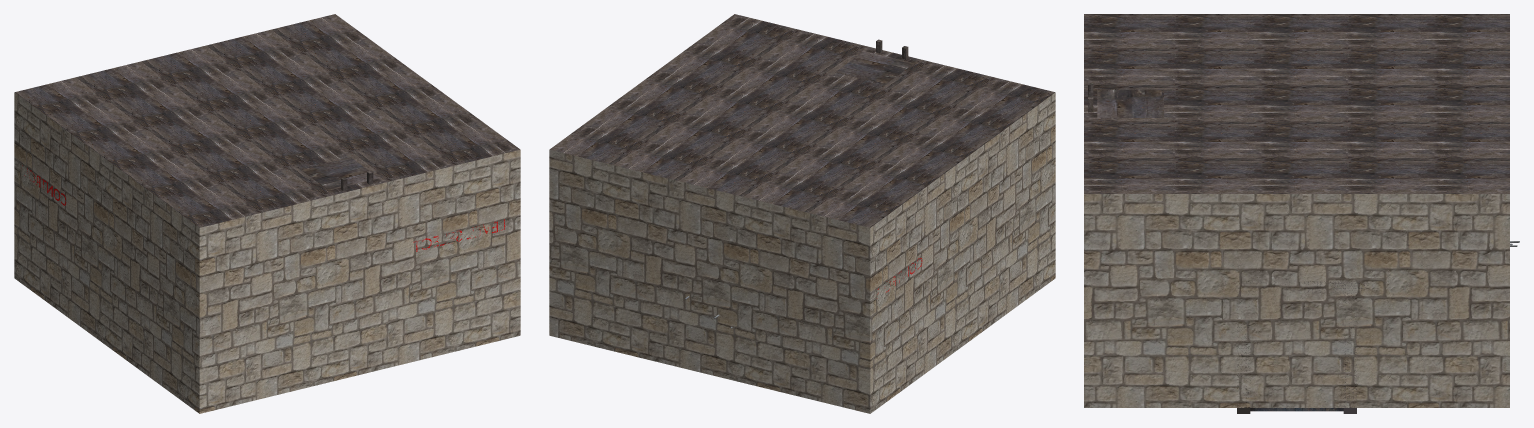
The model's file is mlin.glb.
3 views of the same model, side by side, from view 1: azimuth 30°, elevation 25°; view 2: azimuth 150°, elevation 25°; view 3: azimuth 270°, elevation 25° (orthographic). The views are drawn at different scales.
Parts seen in each view (by area): view 1: Prostor, Otvor; view 2: Prostor, Otvor; view 3: Prostor, Otvor, Vrata.
Part boxes in pixels (x1=…): Prostor: x1=14, y1=14, x2=520, y2=413; Otvor: x1=300, y1=157, x2=378, y2=190; Prostor: x1=549, y1=14, x2=1055, y2=413; Otvor: x1=835, y1=51, x2=913, y2=84; Prostor: x1=1084, y1=14, x2=1509, y2=407; Otvor: x1=1097, y1=89, x2=1163, y2=117; Vrata: x1=1237, y1=281, x2=1368, y2=413.
Bounding box in the file's own units: 64 × 38.6 × 65.5.
Materials: 19 (17 with a texture image).
